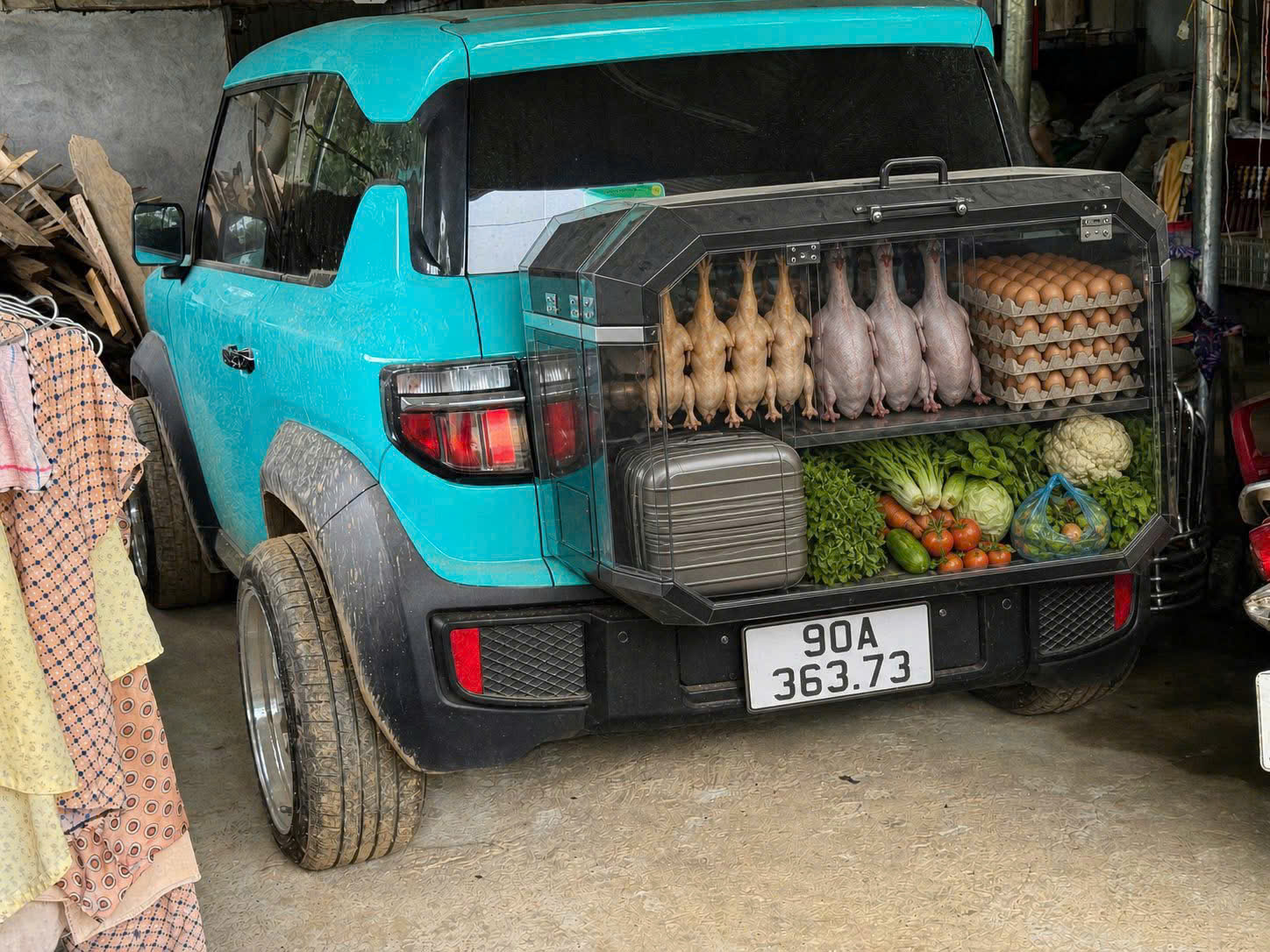Bien-so: (747, 608, 935, 714)
